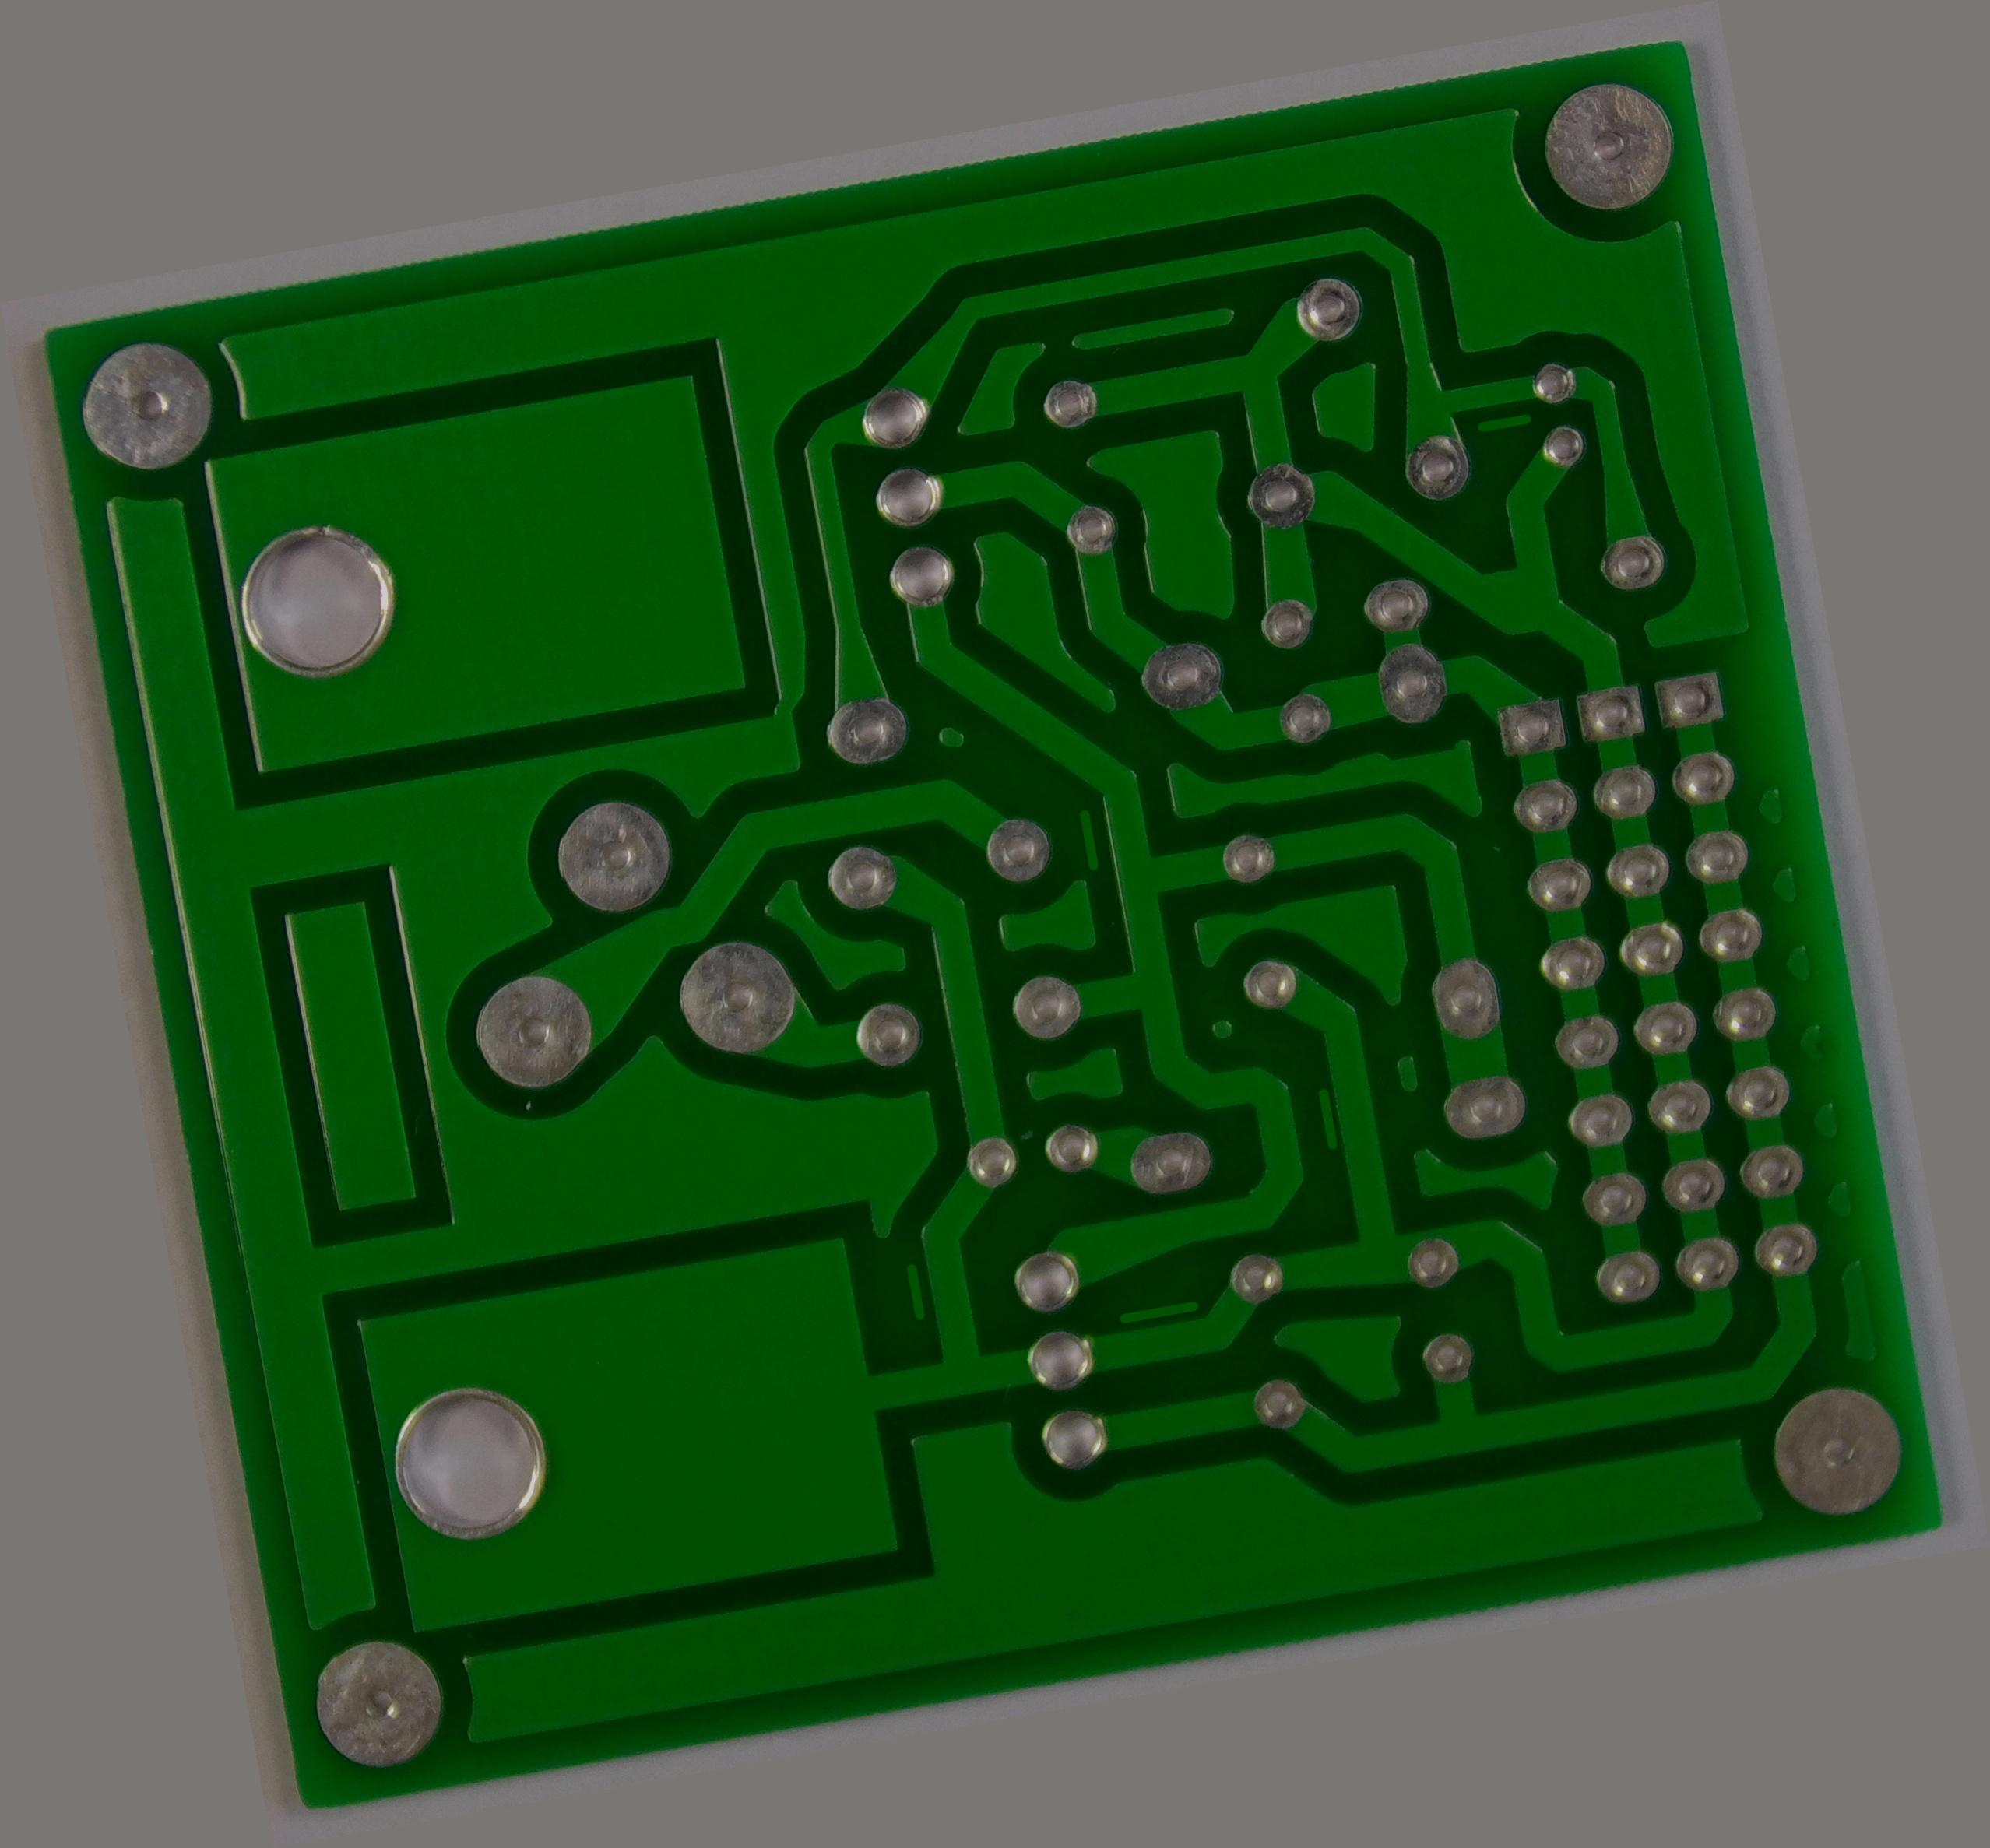spurious_copper: (1058, 789, 1120, 882), (1110, 1285, 1209, 1344), (1297, 1066, 1356, 1165), (1466, 394, 1549, 452), (887, 1247, 941, 1336)
